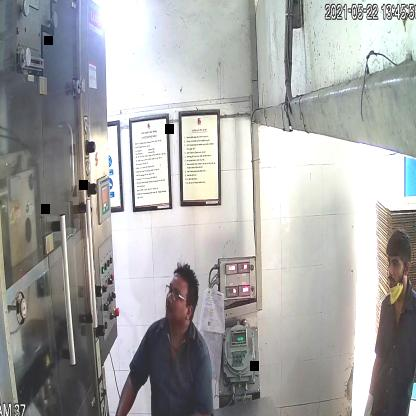goggles: (163, 282, 194, 307)
no_goggles: (384, 255, 406, 273)
